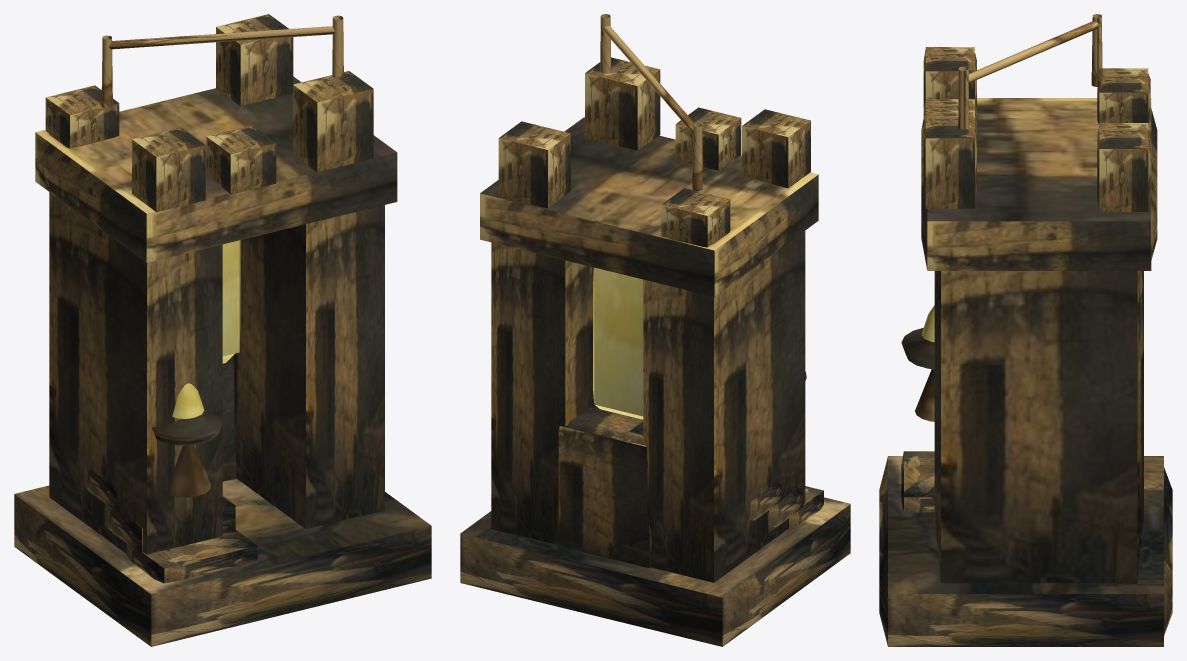
Rendered from ruined-watchtower.glb.
The picture shows the model from 3 angles, left to right: view 1: azimuth 30°, elevation 25°; view 2: azimuth 150°, elevation 25°; view 3: azimuth 270°, elevation 25°; orthographic projection. The views are drawn at different scales.
Visible parts, largest first — view 1: HeroRelicMonument; view 2: HeroRelicMonument; view 3: HeroRelicMonument.
Boxes of the visible parts, x1,y1,x2,y2 form: HeroRelicMonument: [14, 14, 431, 646]; HeroRelicMonument: [460, 14, 850, 646]; HeroRelicMonument: [879, 14, 1172, 646].
Size of the model in its own units: 1.56 by 2.74 by 1.32.
1 material, 1 textured.
